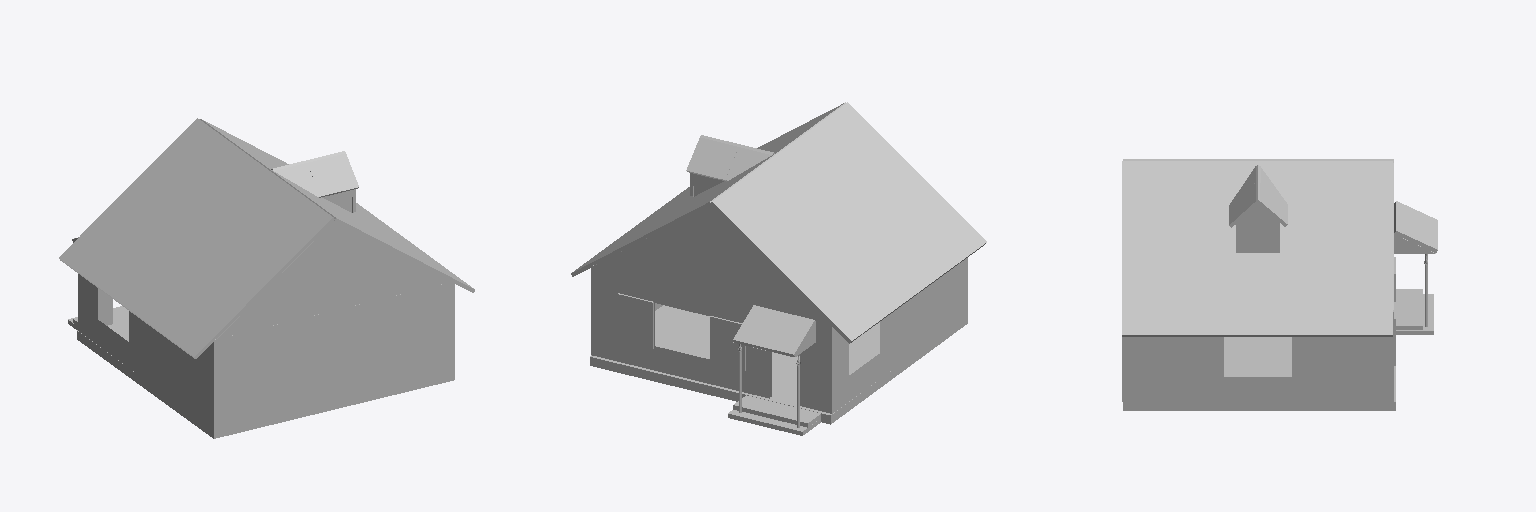
File: casa123.obj
3 views of the same model, side by side, from view 1: azimuth 30°, elevation 25°; view 2: azimuth 150°, elevation 25°; view 3: azimuth 270°, elevation 25° (orthographic).
Parts seen in each view (by area): view 1: Cubo.017_Cubo.024; view 2: Cubo.017_Cubo.024; view 3: Cubo.017_Cubo.024.
Boxes of the visible parts, x1=… form: Cubo.017_Cubo.024: x1=59, y1=118, x2=474, y2=438; Cubo.017_Cubo.024: x1=571, y1=102, x2=986, y2=435; Cubo.017_Cubo.024: x1=1122, y1=159, x2=1437, y2=410.
Bounding box in the file's own units: 265 × 174 × 258.